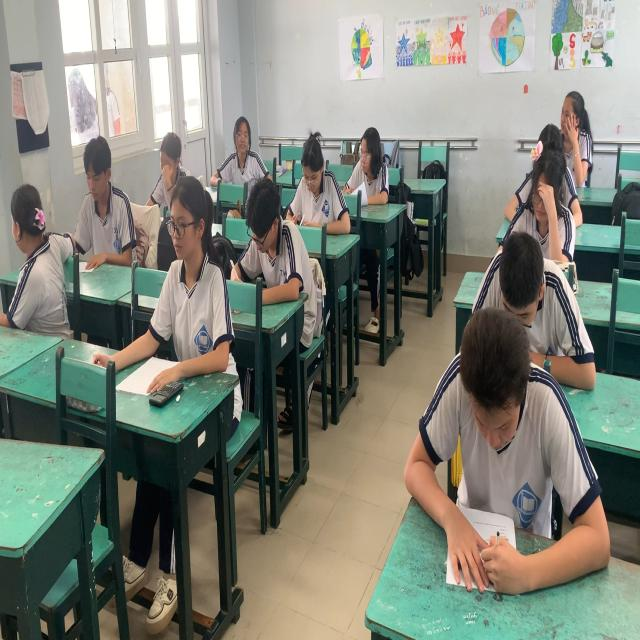cheating: (4, 173, 73, 345)
not_cheating: (429, 322, 585, 528), (152, 178, 226, 372), (78, 132, 148, 286), (471, 236, 570, 344), (240, 174, 302, 331), (511, 148, 576, 251), (554, 76, 599, 170), (347, 108, 390, 204), (300, 122, 336, 233), (155, 124, 191, 194), (231, 105, 257, 177)
